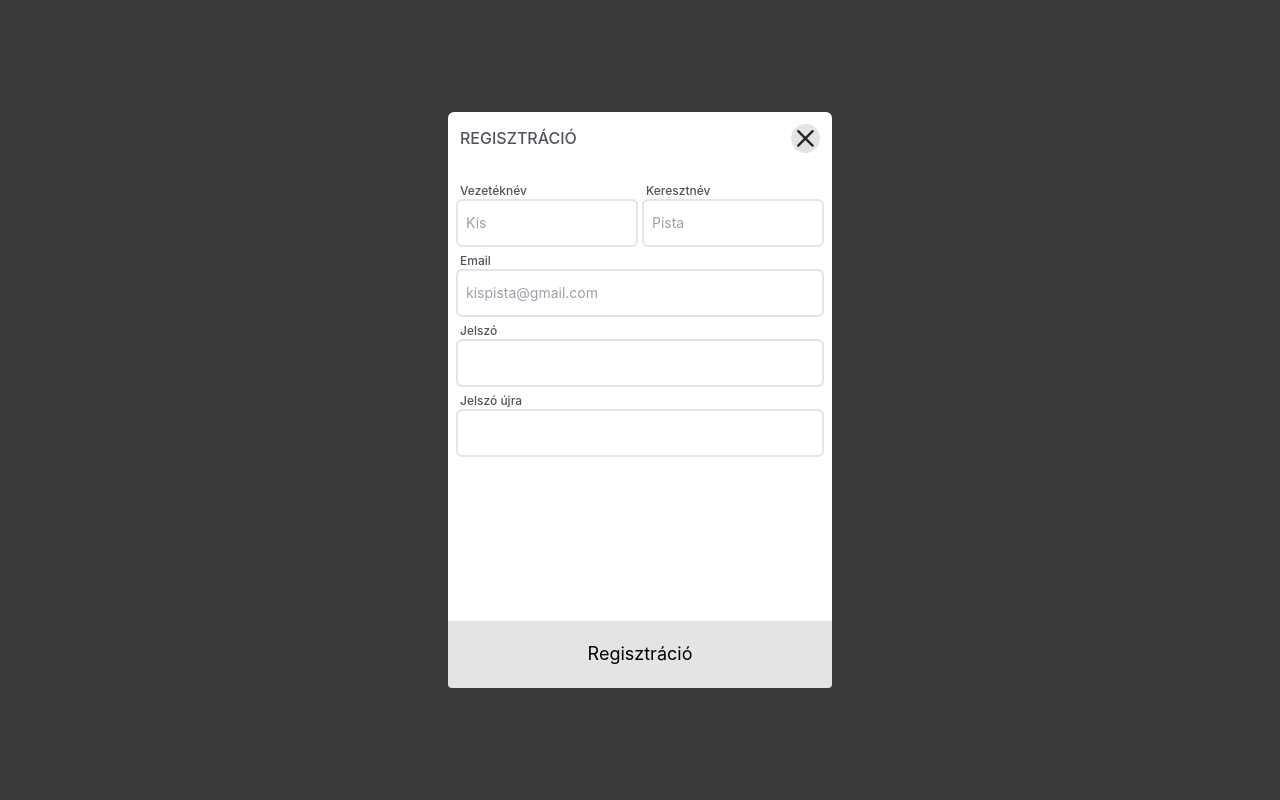
Test: Register component › should display validator error when form sending errors out
What coordinates should you click on to do the following:
click the button with id "submit"
I would click on:
 (640, 654)
Its box is [448,621,832,688].
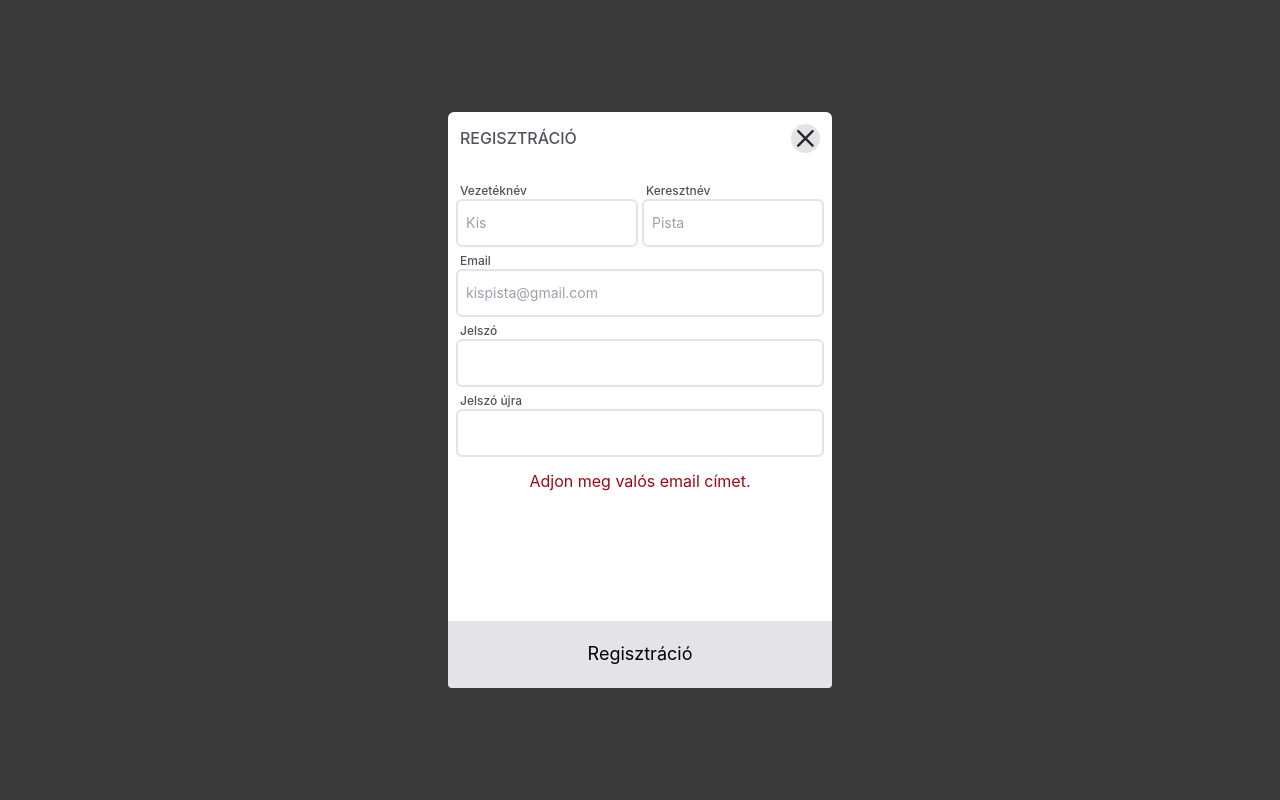
Check: the text "Adjon meg valós email címet." is shown, box [530,471,750,491]
